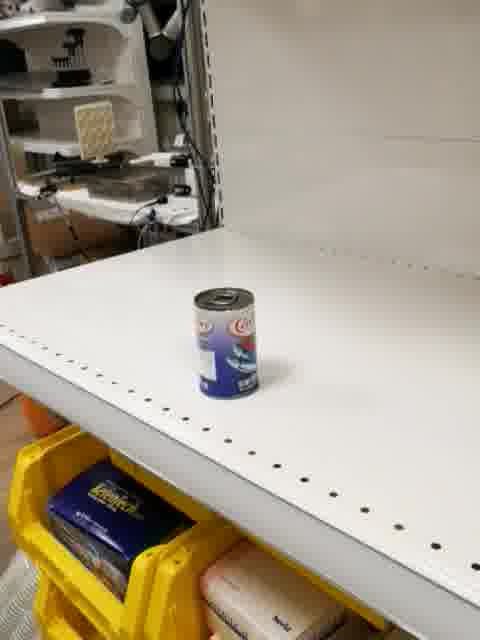sardine: (194, 287, 262, 401)
